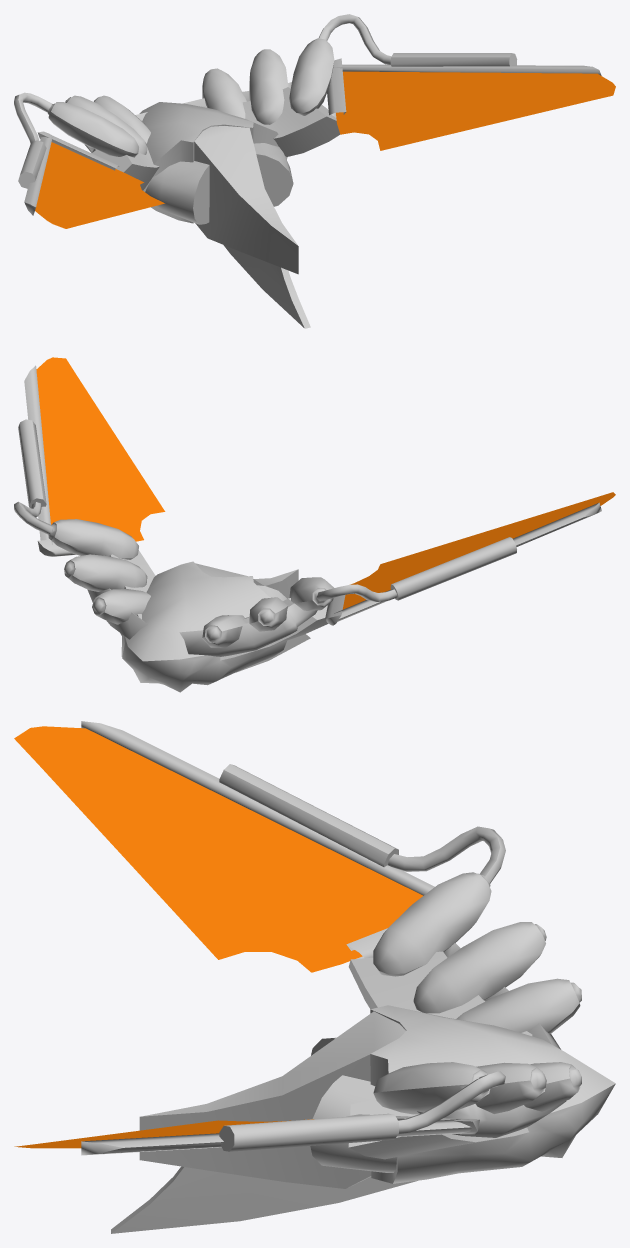
Rendered from ship19b.obj.
3 views of the same model, one above another, from view 1: azimuth 30°, elevation 25°; view 2: azimuth 150°, elevation 25°; view 3: azimuth 270°, elevation 25° (orthographic). The views are drawn at different scales.
Visible parts, largest first — view 1: Mesh.001, Mesh; view 2: Mesh.001, Mesh; view 3: Mesh.001, Mesh.
Boxes of the visible parts, x1=… form: Mesh.001: x1=14, y1=14, x2=601, y2=328; Mesh: x1=35, y1=71, x2=615, y2=228; Mesh.001: x1=14, y1=365, x2=601, y2=692; Mesh: x1=36, y1=357, x2=615, y2=609; Mesh.001: x1=81, y1=721, x2=615, y2=1233; Mesh: x1=14, y1=726, x2=423, y2=1148.
Bounding box in the file's own units: 36194 × 11949 × 21695.
